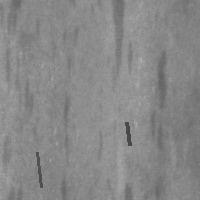inclusion: (52, 93, 79, 197), (105, 1, 129, 96), (151, 46, 172, 110), (14, 72, 37, 126), (146, 104, 166, 156), (57, 23, 78, 57), (92, 125, 107, 170), (62, 51, 75, 82), (35, 150, 43, 189), (124, 120, 131, 147)
